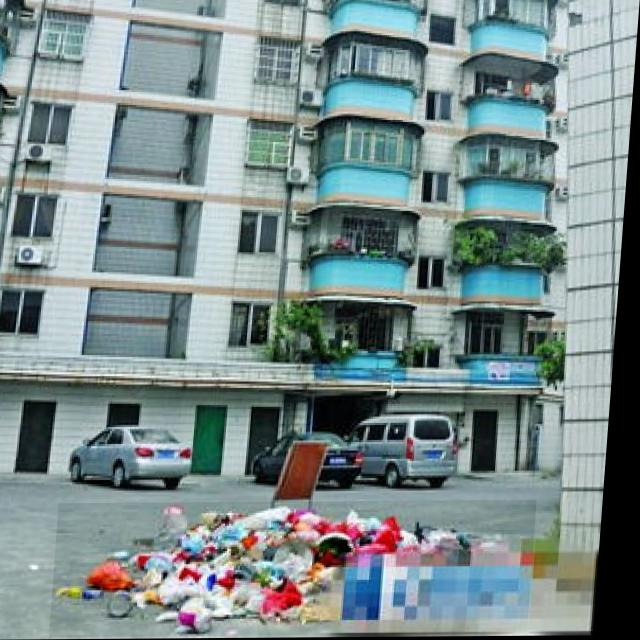garbage: (59, 501, 545, 637)
